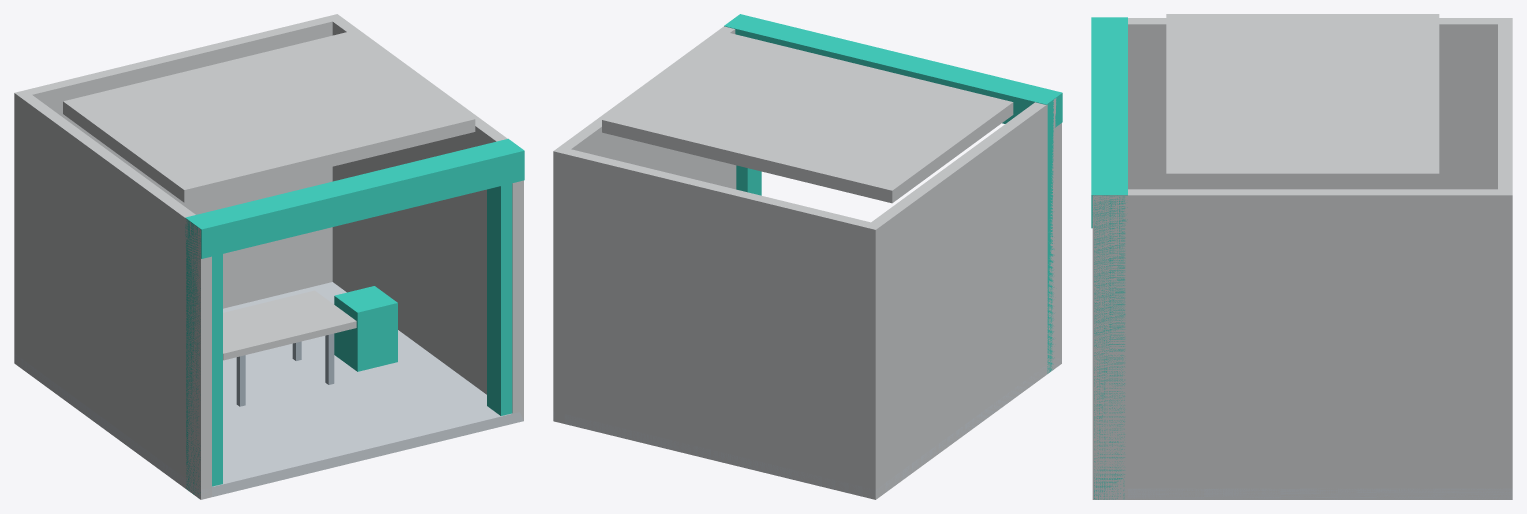
3 views of the same model, side by side, from view 1: azimuth 30°, elevation 25°; view 2: azimuth 150°, elevation 25°; view 3: azimuth 270°, elevation 25° (orthographic). The views are drawn at different scales.
Visible parts, largest first — view 1: Exhibition Booth Concept; view 2: Exhibition Booth Concept; view 3: Exhibition Booth Concept.
Boxes of the visible parts, box(x1,y1,x2,y2) form: Exhibition Booth Concept: box(14, 14, 524, 499); Exhibition Booth Concept: box(553, 14, 1062, 499); Exhibition Booth Concept: box(1091, 14, 1512, 499).
Size of the model in its own units: 4 by 3.34 by 4.02.
